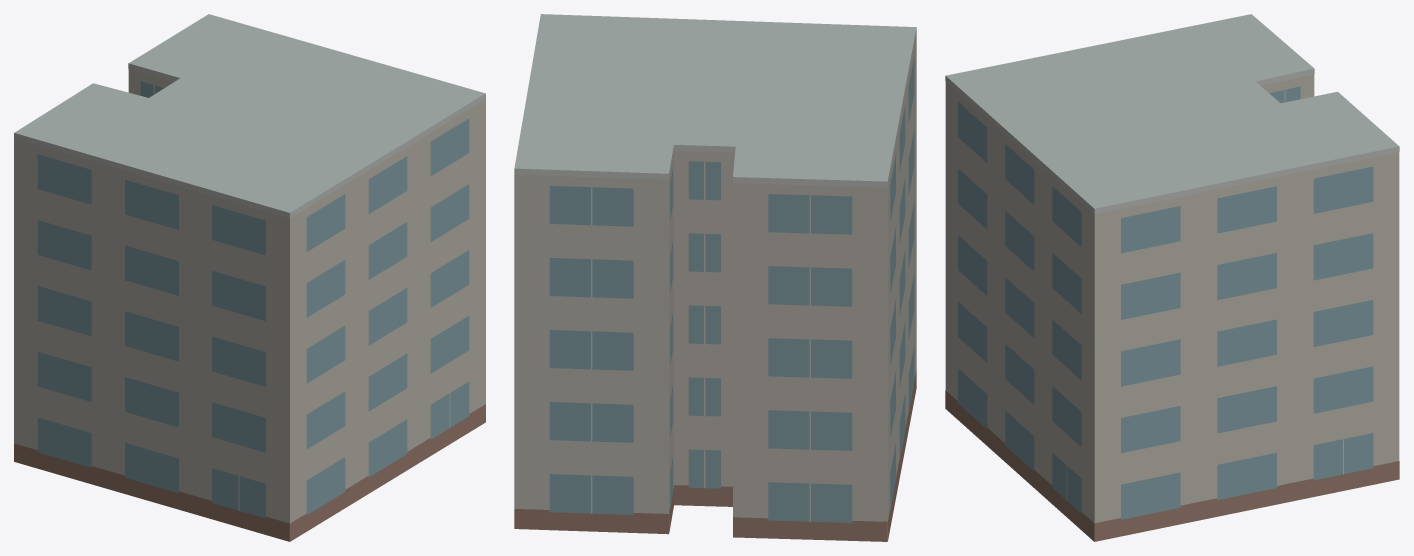
File: survey-upis-32724970.glb
3 renders of one model, left to right at view 1: azimuth 30°, elevation 25°; view 2: azimuth 150°, elevation 25°; view 3: azimuth 270°, elevation 25°, orthographic. The views are drawn at different scales.
Visible parts, largest first — view 1: survey-upis-32724970.tmp; view 2: survey-upis-32724970.tmp; view 3: survey-upis-32724970.tmp.
Part boxes in pixels (x1,y1,x2,y2): survey-upis-32724970.tmp: (14, 14, 485, 541); survey-upis-32724970.tmp: (514, 14, 916, 541); survey-upis-32724970.tmp: (945, 14, 1399, 541).
Size of the model in its own units: 18.19 by 14.5 by 17.92.
